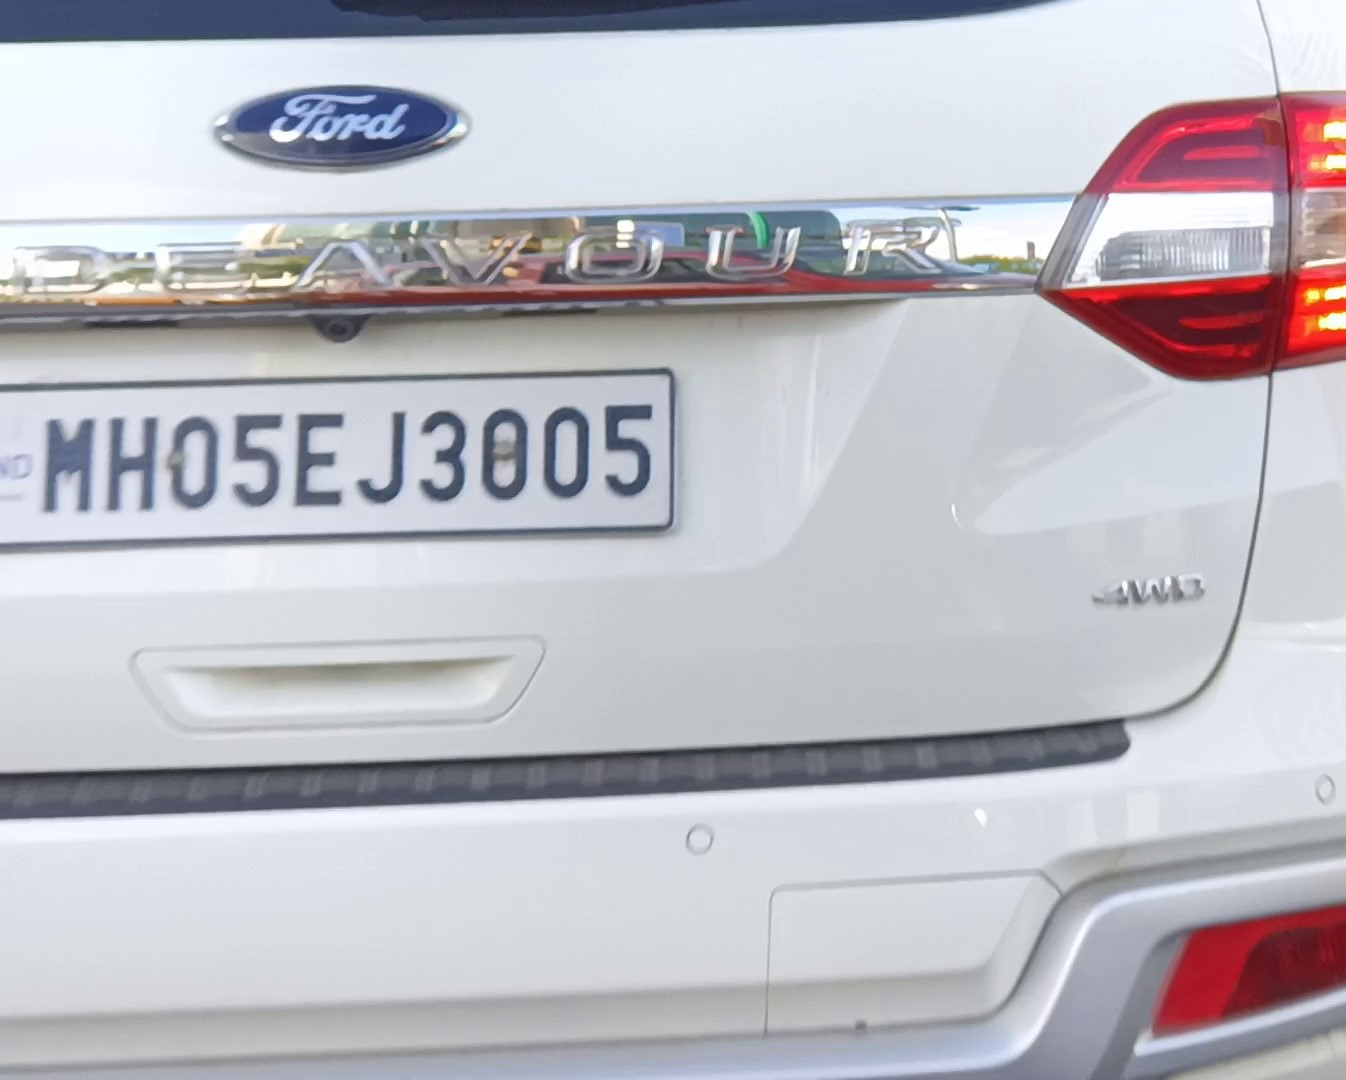MH05EJ3005: (7, 374, 672, 527)
